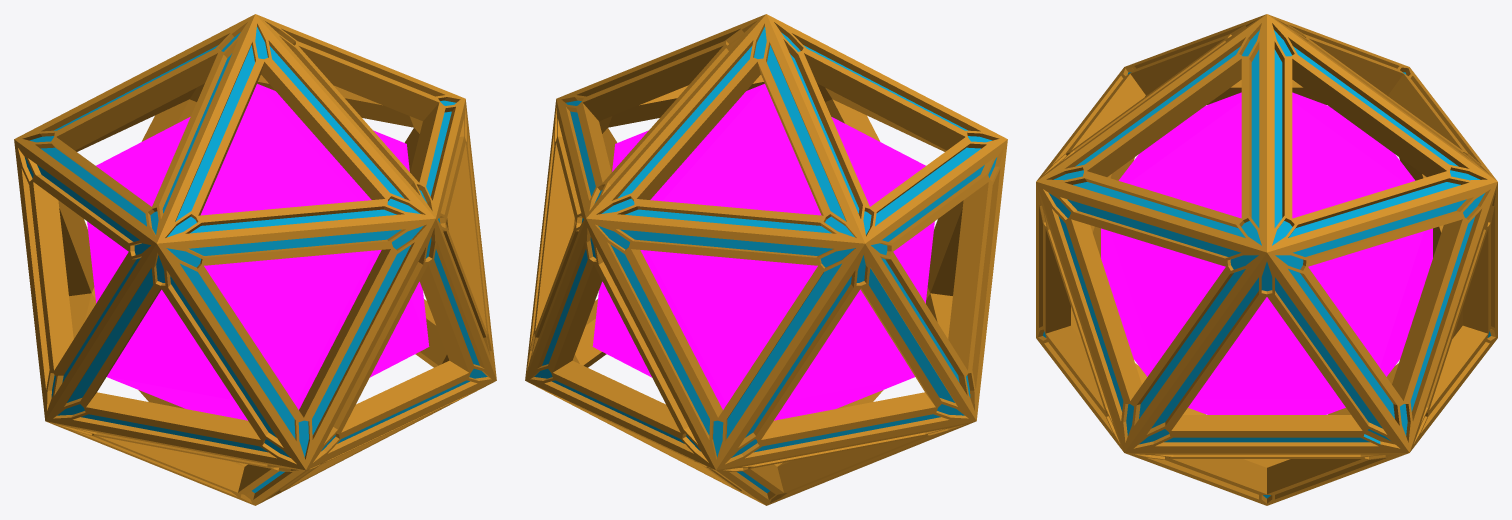
The model's file is Golden_Gem.fbx.
The picture shows the model from 3 angles, left to right: view 1: azimuth 30°, elevation 25°; view 2: azimuth 150°, elevation 25°; view 3: azimuth 270°, elevation 25°; orthographic projection.
Parts seen in each view (by area): view 1: Icosphere; view 2: Icosphere; view 3: Icosphere.
Boxes of the visible parts, left/top/right/bottom form: Icosphere: left=14, top=14, right=496, bottom=505; Icosphere: left=525, top=14, right=1007, bottom=505; Icosphere: left=1036, top=14, right=1497, bottom=505.
Bounding box in the file's own units: 179 × 200 × 170.
